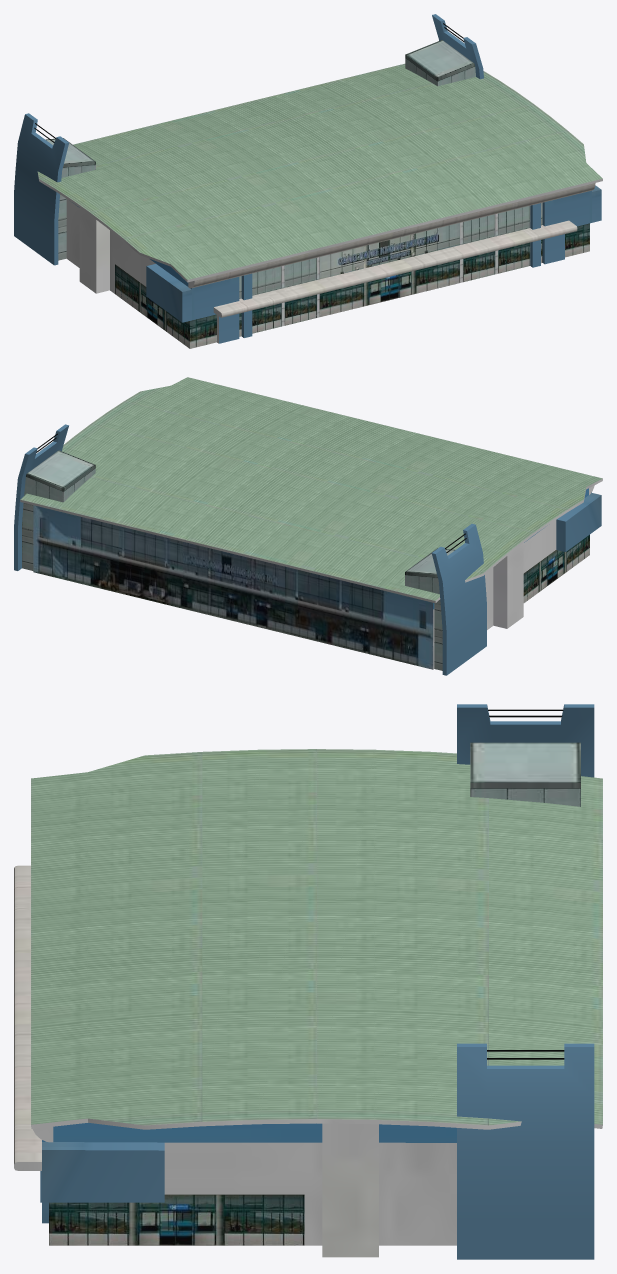
Rendered from DaNa0003-SanBayDongHoi.glb.
3 views of the same model, one above another, from view 1: azimuth 30°, elevation 25°; view 2: azimuth 150°, elevation 25°; view 3: azimuth 270°, elevation 25° (orthographic). The views are drawn at different scales.
Visible parts, largest first — view 1: DaNa0003_SanBayDongHoi; view 2: DaNa0003_SanBayDongHoi; view 3: DaNa0003_SanBayDongHoi.
Boxes of the visible parts, box(x1,y1,x2,y2) form: DaNa0003_SanBayDongHoi: box(14, 14, 602, 348); DaNa0003_SanBayDongHoi: box(14, 377, 602, 675); DaNa0003_SanBayDongHoi: box(14, 704, 602, 1259).
Bounding box in the file's own units: 71.8 × 18.41 × 48.29.
1 material, 1 textured.
